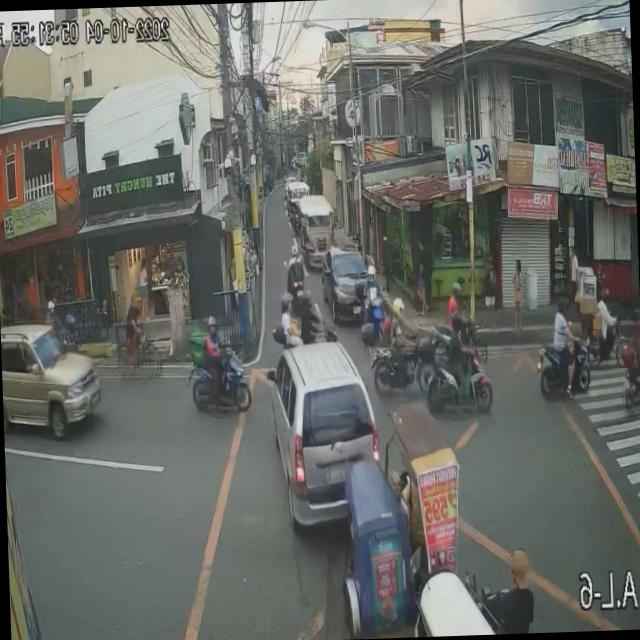full: (392, 294, 405, 320), (302, 290, 314, 308)
half: (208, 316, 218, 336), (281, 292, 292, 310)
